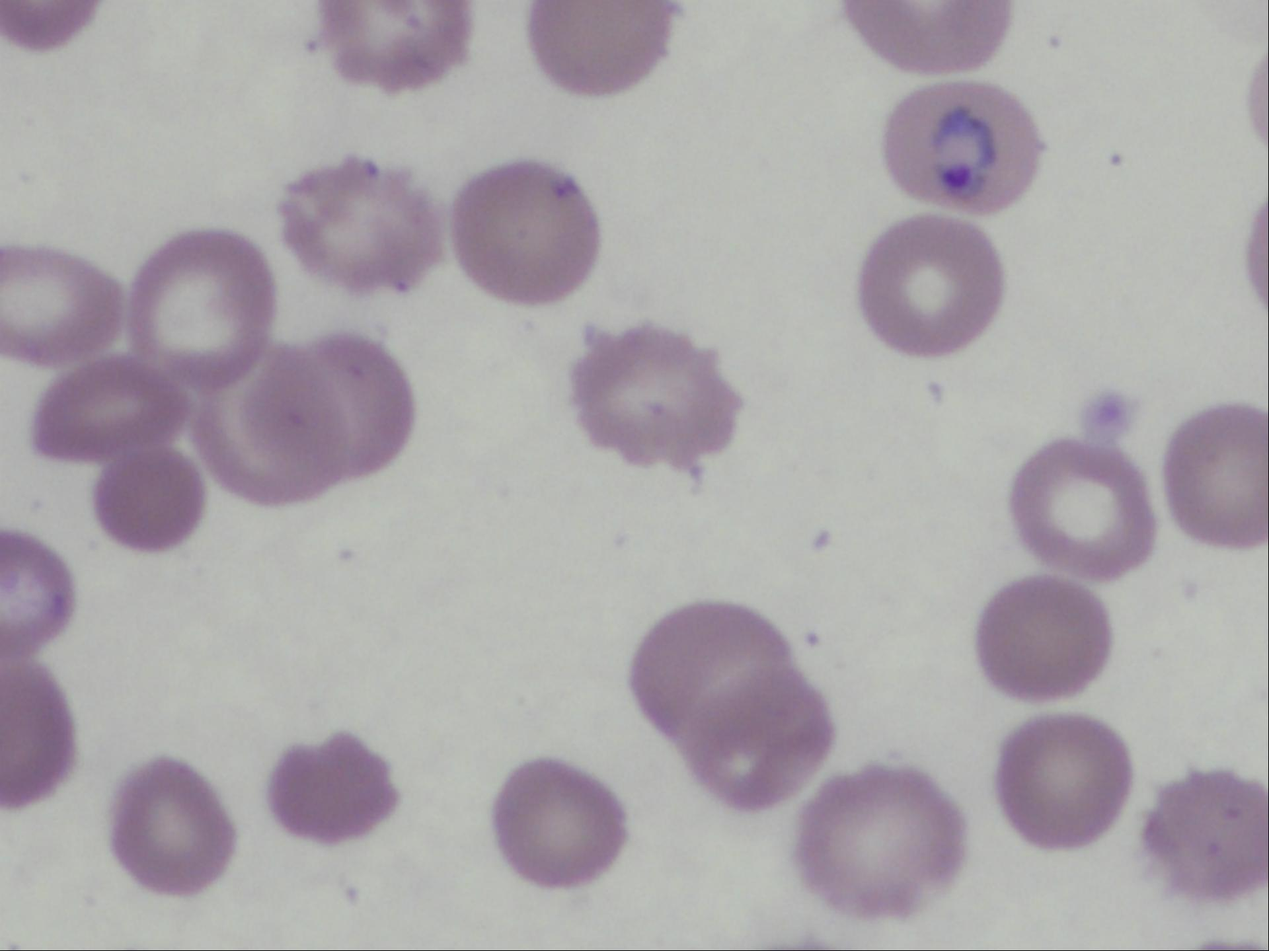Infected: (882, 81, 1042, 217)
Uninfected: (630, 600, 829, 811), (199, 338, 411, 505), (570, 323, 735, 470), (796, 769, 960, 916), (281, 158, 442, 295), (130, 232, 273, 385), (452, 163, 597, 303), (1009, 437, 1153, 575), (864, 217, 1002, 359), (997, 716, 1128, 847), (34, 356, 191, 462), (492, 760, 623, 886), (111, 759, 233, 893), (977, 579, 1112, 699), (1143, 768, 1266, 897), (1, 246, 123, 364), (268, 732, 395, 845), (1163, 406, 1267, 543), (317, 2, 470, 92), (531, 1, 672, 94), (846, 3, 1011, 74), (93, 448, 206, 549), (1, 670, 75, 808), (3, 532, 74, 654)
